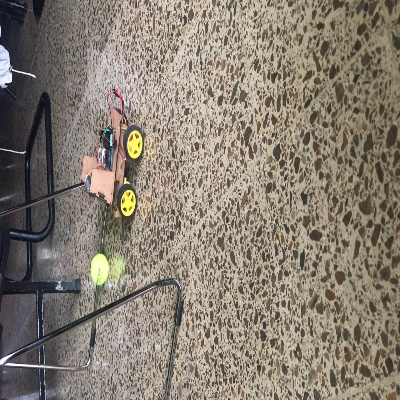Ball: (90, 253, 109, 285)
Robot: (80, 106, 143, 219)
